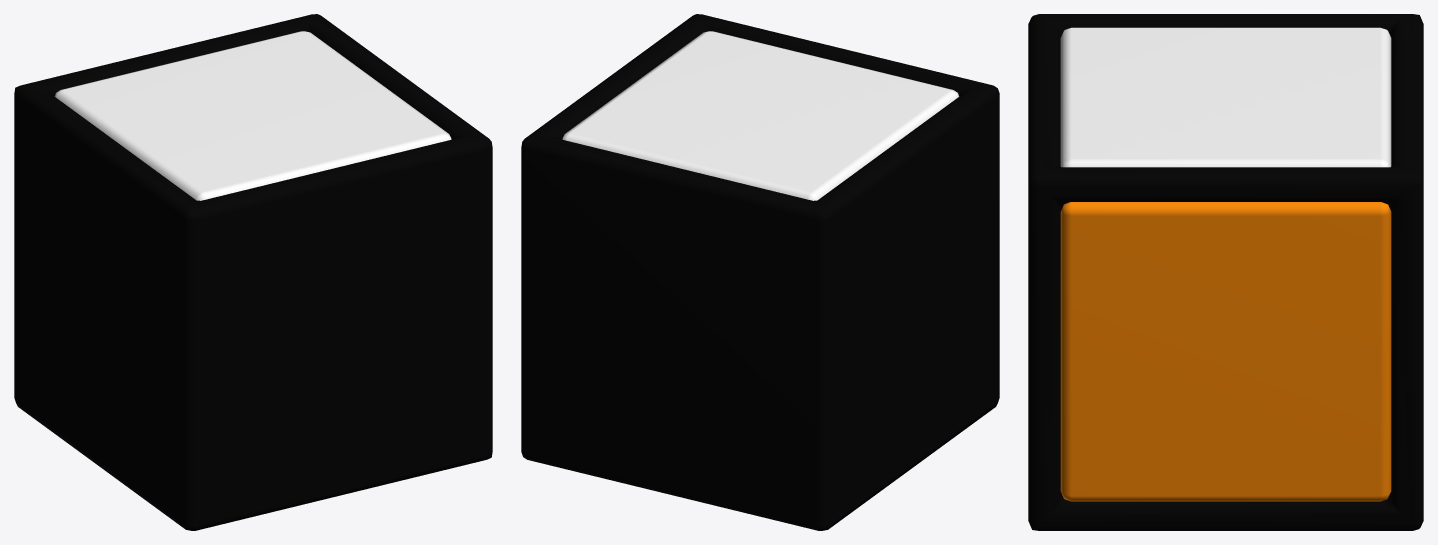
3 views of the same model, side by side, from view 1: azimuth 30°, elevation 25°; view 2: azimuth 150°, elevation 25°; view 3: azimuth 270°, elevation 25° (orthographic). The views are drawn at different scales.
Parts seen in each view (by area): view 1: Cube.014; view 2: Cube.014; view 3: Cube.014.
Part boxes in pixels (x1=…): Cube.014: x1=14, y1=14, x2=492, y2=530; Cube.014: x1=521, y1=14, x2=999, y2=530; Cube.014: x1=1028, y1=14, x2=1423, y2=530.
Size of the model in its own units: 2 by 2 by 2.
